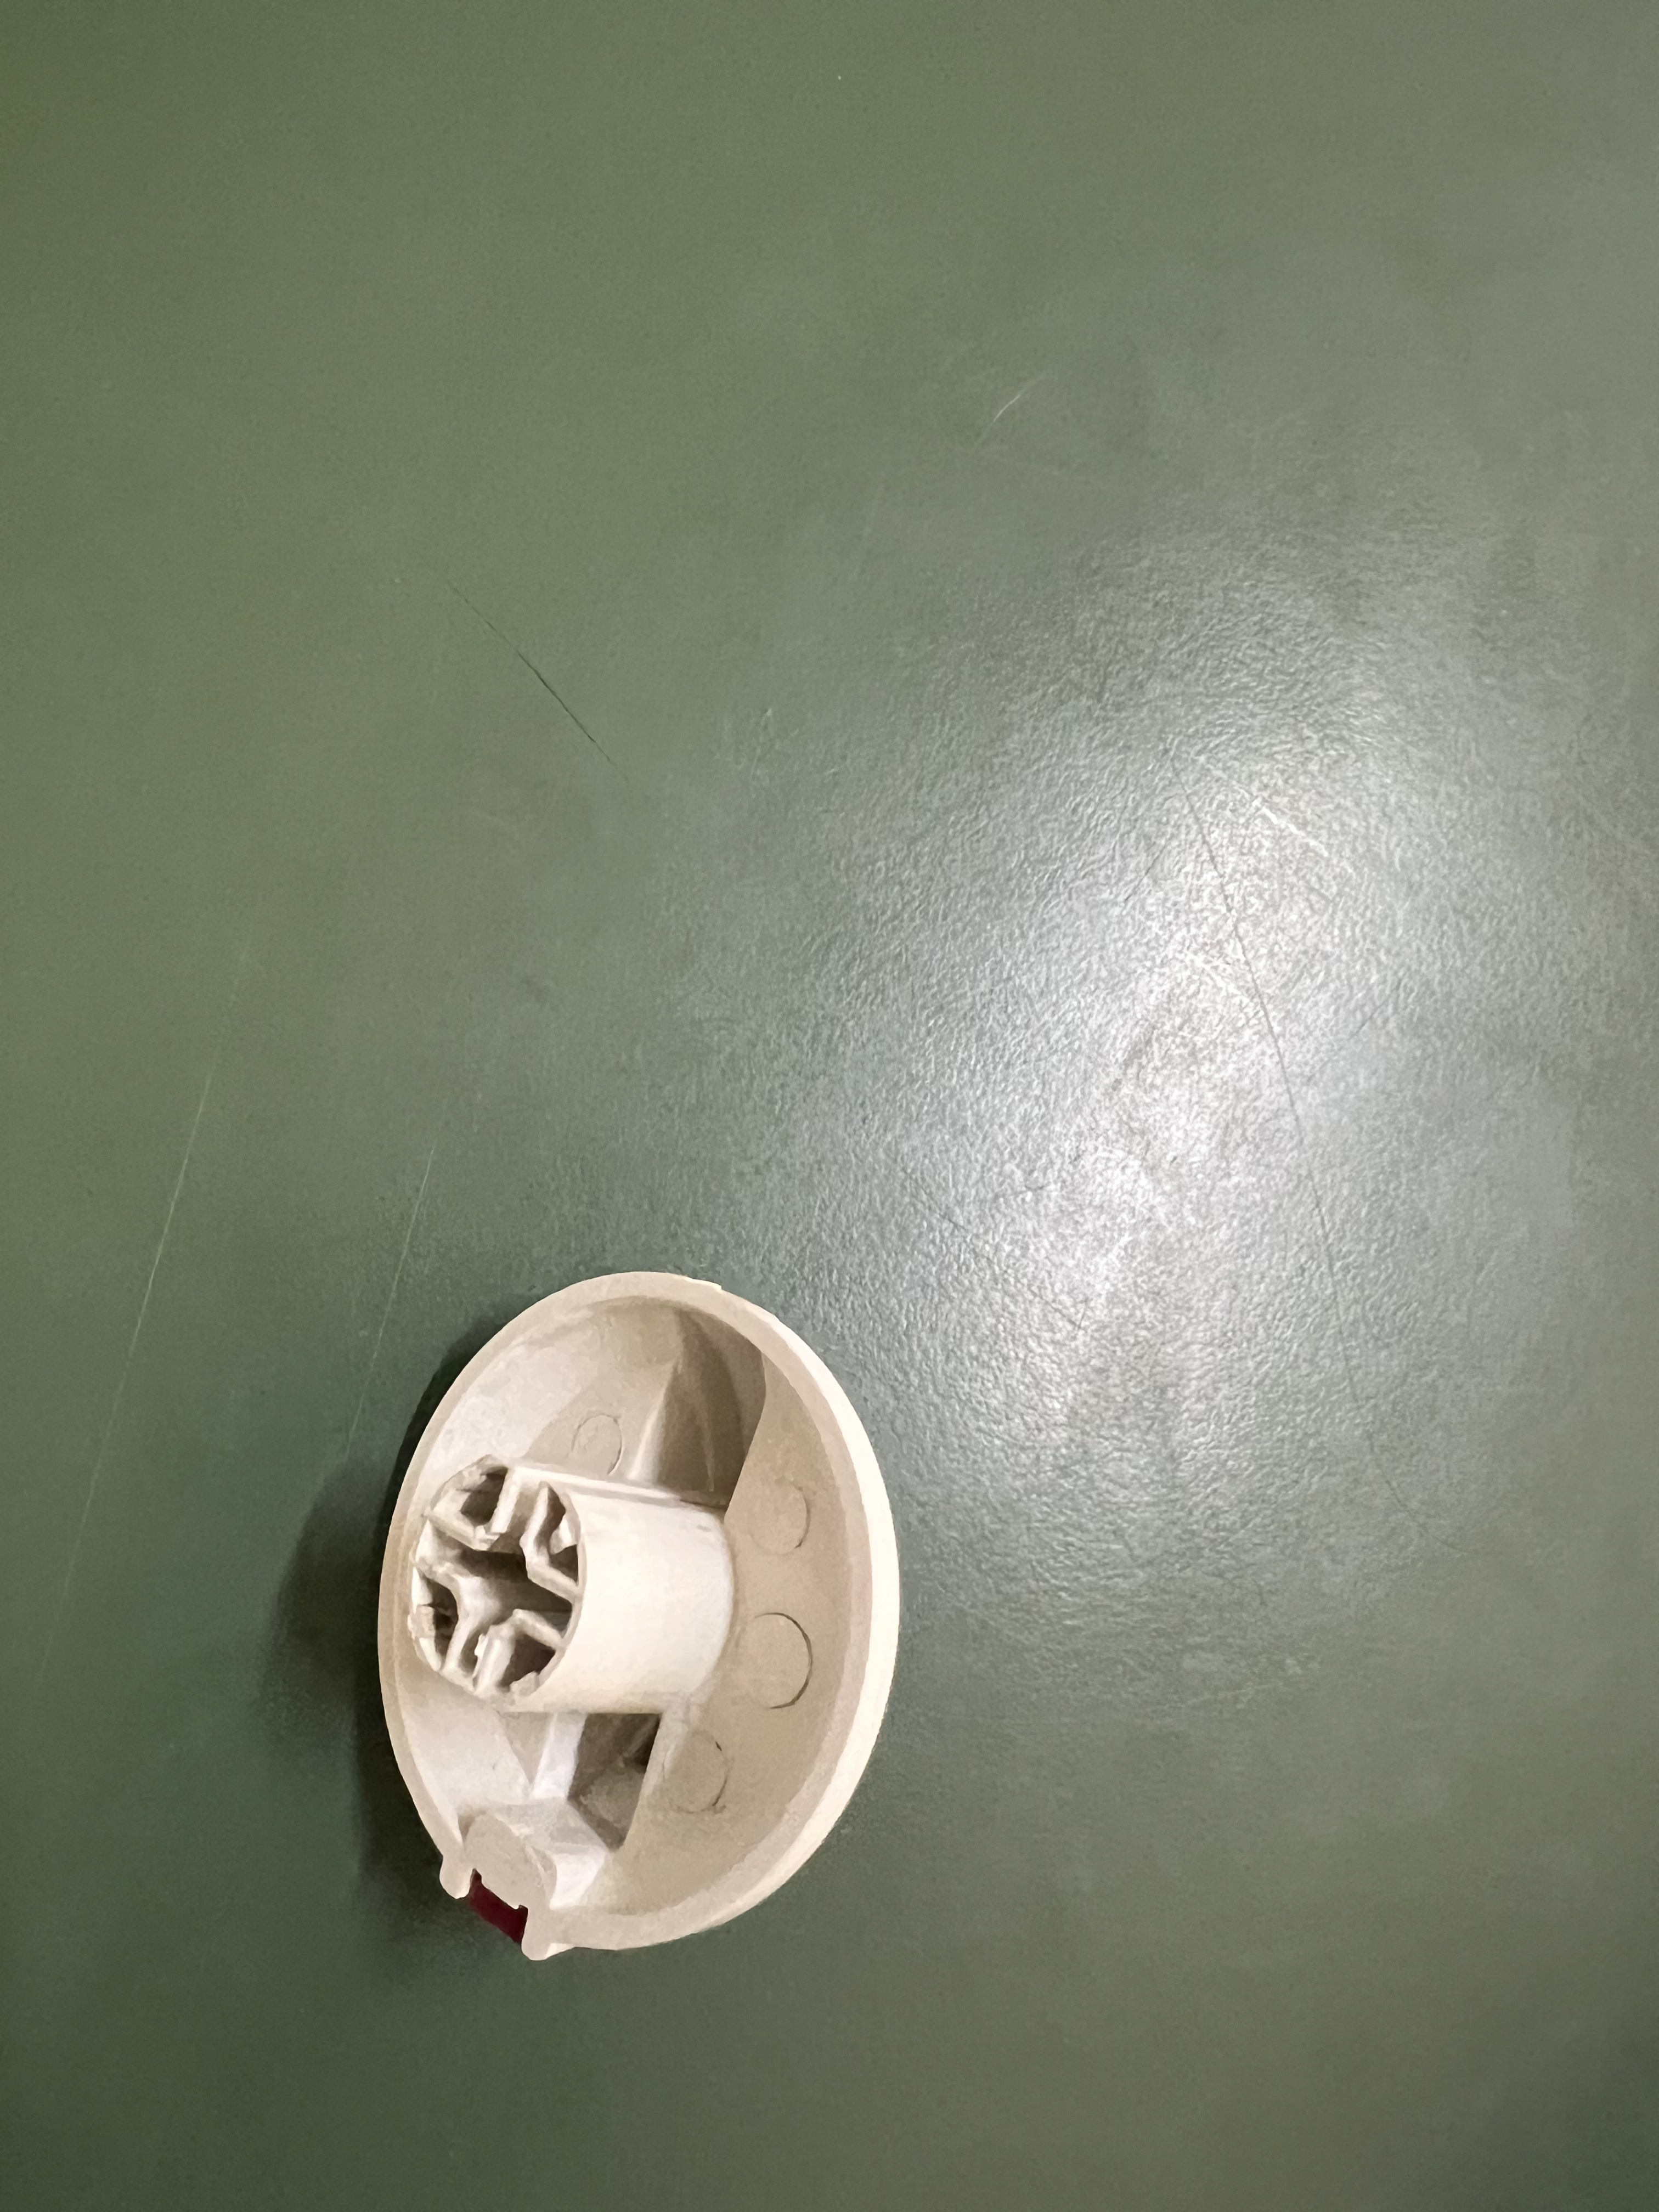regulator: (343, 1258, 915, 1980)
